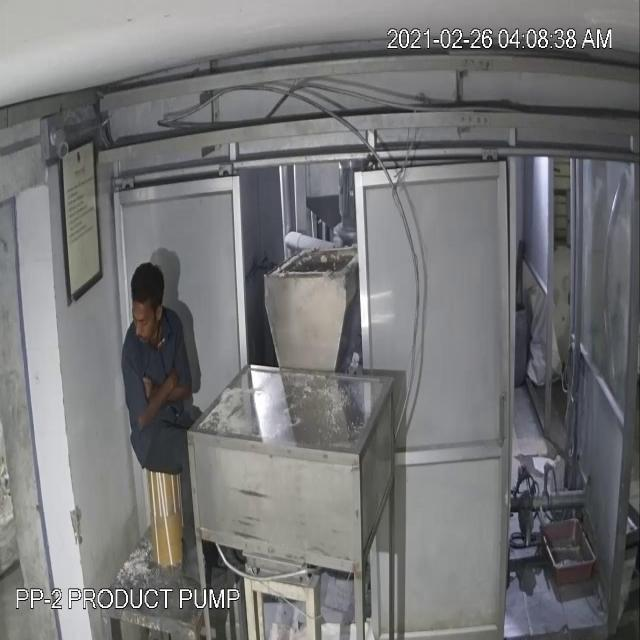no-helmet: (124, 260, 168, 324)
